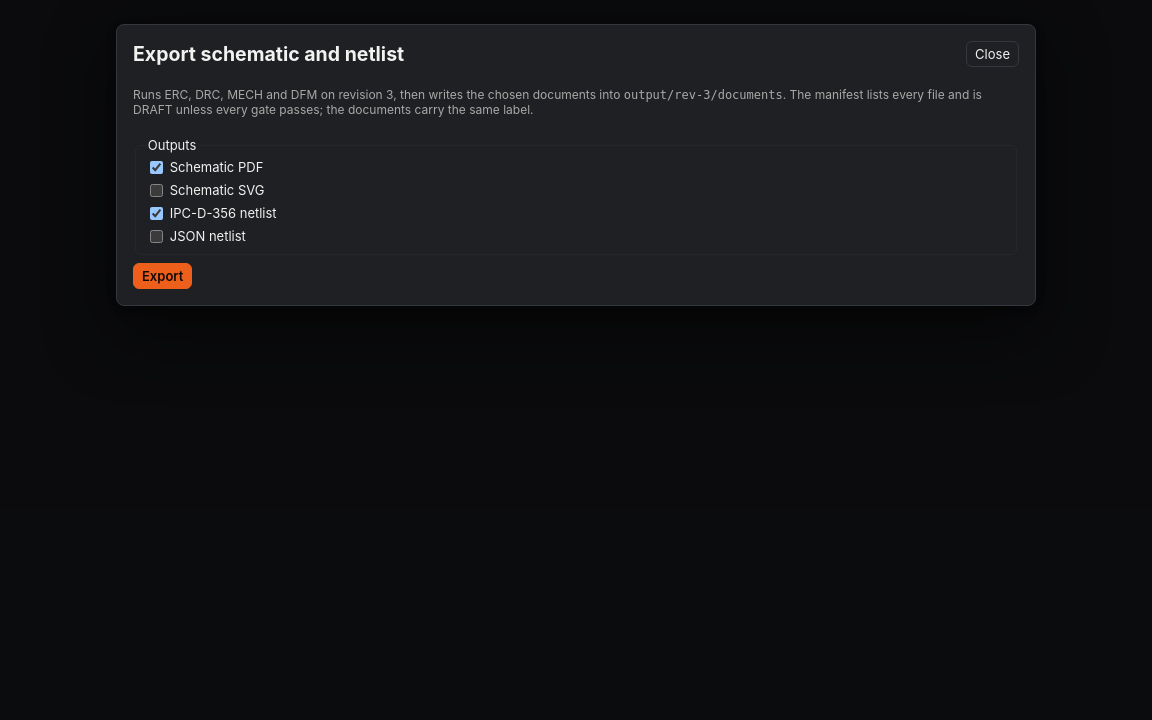
Export schematic and netlist dialog › sends the chosen outputs and shows the DRAFT manifest
Click the checkbox labelled "Schematic SVG".
click(156, 190)  # box [150,184,163,196]
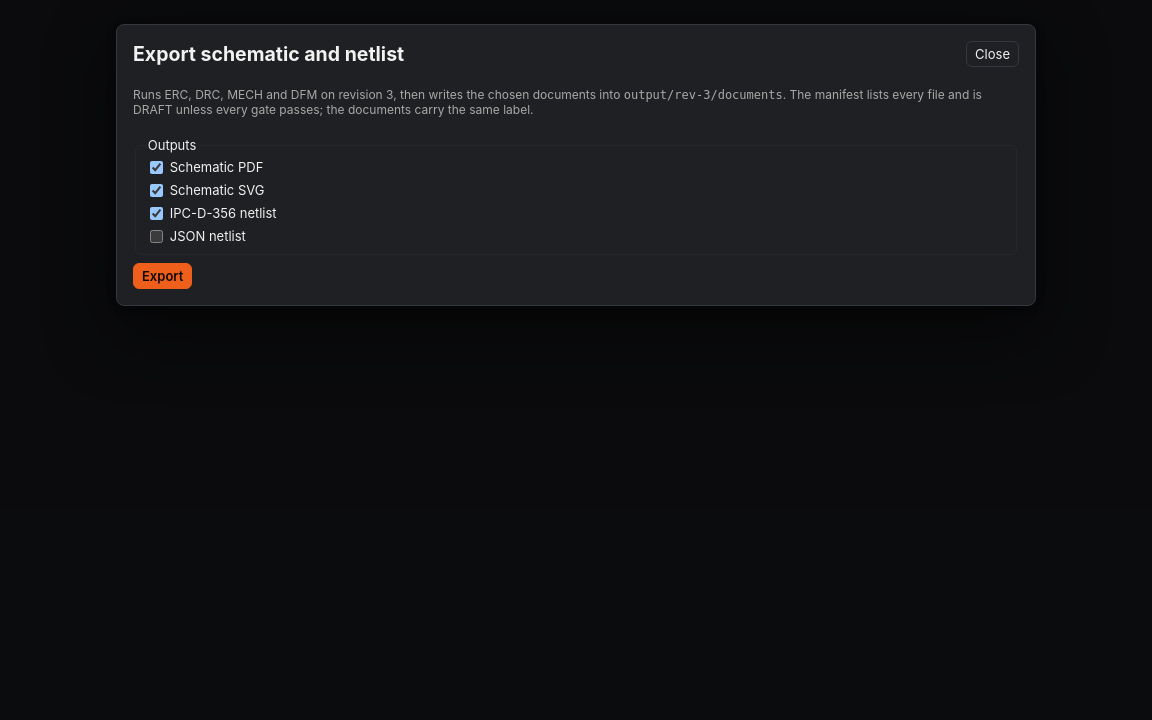
Click the checkbox labelled "IPC-D-356 netlist".
click(156, 213)  # box [150,206,163,220]
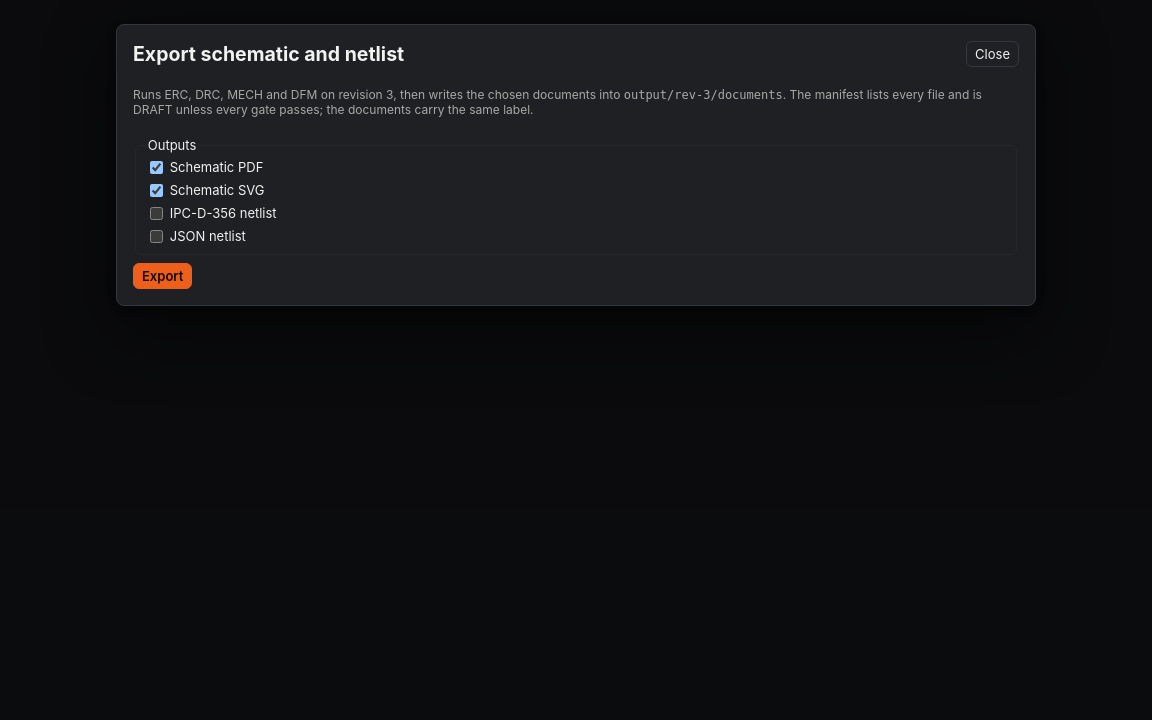
Click the button "Export".
click(163, 276)  # box [133,263,192,289]
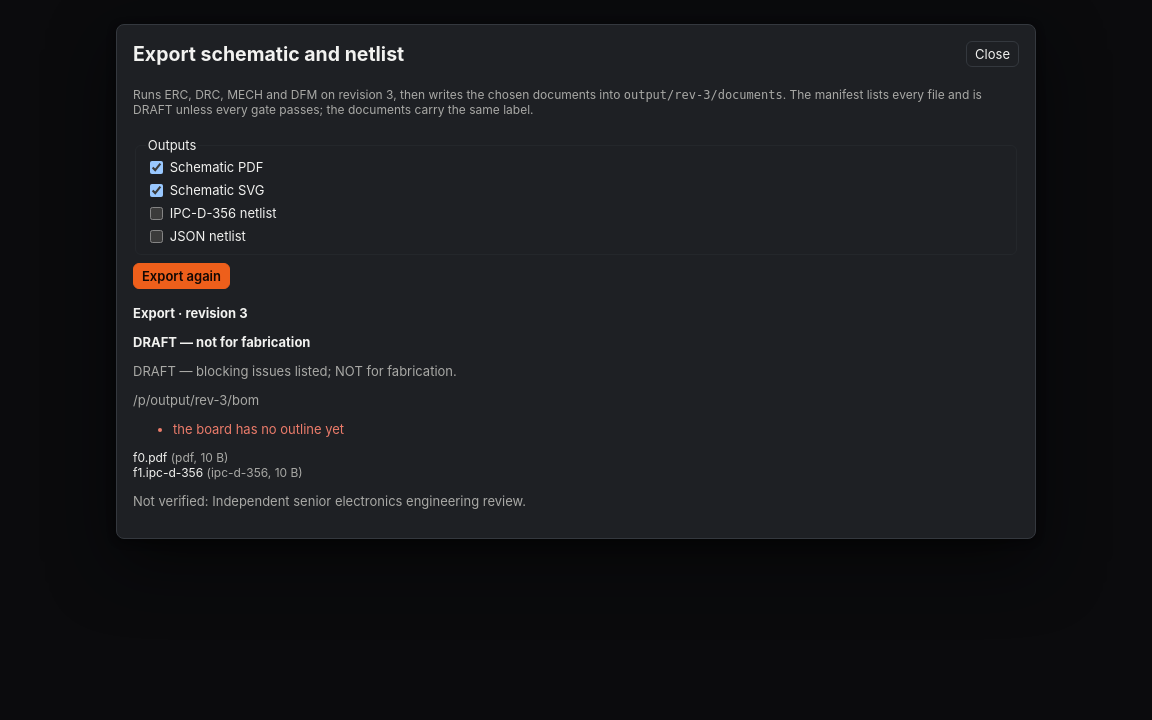
Now the text "DRAFT — not for fabrication" is shown, box [133,334,310,350]
Now the list named "Blocking reasons" shows "no outline", box [173,421,344,437]
